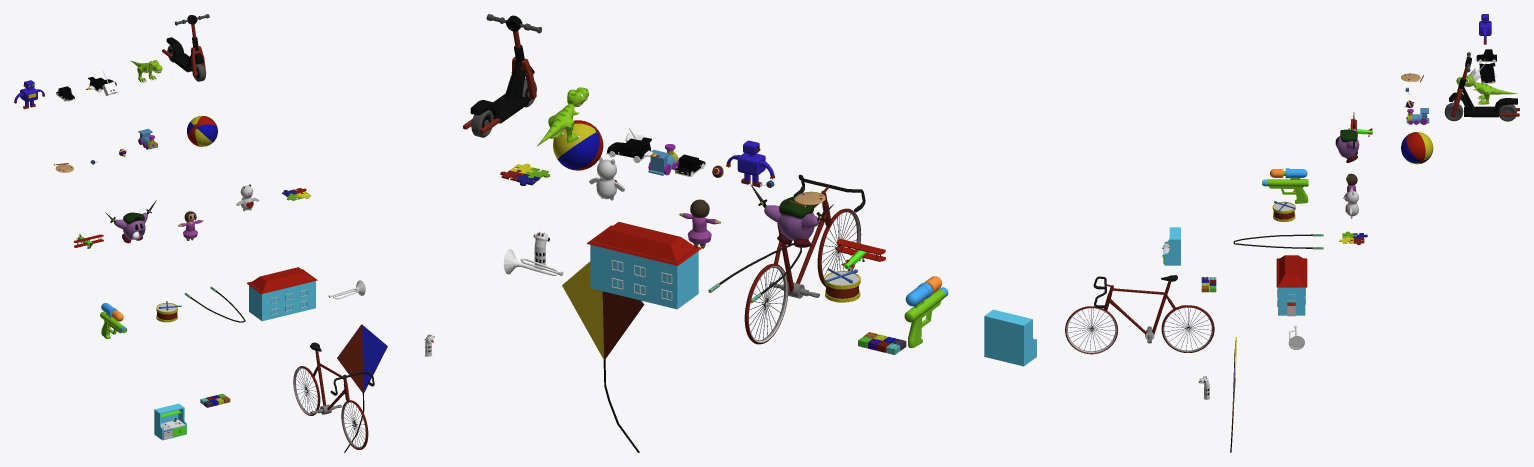
The model's file is Toys.fbx.
3 views of the same model, side by side, from view 1: azimuth 30°, elevation 25°; view 2: azimuth 150°, elevation 25°; view 3: azimuth 270°, elevation 25° (orthographic). The views are drawn at different scales.
Visible parts, largest first — view 1: Casita de Juguetes013, Bicicleta004, Cometa063, Scooter020, Mini Cocina017, Balon 028, Kirby025, Sphere070, Robot029; view 2: Casita de Juguetes013, Bicicleta004, Cometa063, Scooter020, Mini Cocina017, Kirby025, Balon 028, Sphere070, Trex041, Robot029, Baqueta026, Muñeca045 (+7 smaller); view 3: Bicicleta004, Casita de Juguetes013, Scooter020, Sphere070, Balon 028, Kirby025, Mini Cocina017, Trex041.
Part boxes in pixels (bbox=[...]): Casita de Juguetes013: bbox=[247, 267, 317, 321]; Bicicleta004: bbox=[293, 342, 374, 449]; Cometa063: bbox=[337, 324, 387, 452]; Scooter020: bbox=[162, 14, 209, 81]; Mini Cocina017: bbox=[154, 403, 186, 440]; Balon 028: bbox=[187, 115, 217, 146]; Kirby025: bbox=[105, 200, 156, 243]; Sphere070: bbox=[100, 303, 127, 338]; Robot029: bbox=[14, 80, 44, 109]; Casita de Juguetes013: bbox=[586, 221, 701, 309]; Bicicleta004: bbox=[744, 174, 865, 344]; Cometa063: bbox=[562, 261, 644, 452]; Scooter020: bbox=[463, 14, 541, 137]; Mini Cocina017: bbox=[984, 309, 1036, 366]; Kirby025: bbox=[750, 183, 833, 247]; Balon 028: bbox=[553, 120, 603, 170]; Sphere070: bbox=[904, 276, 948, 347]; Trex041: bbox=[537, 87, 588, 146]; Robot029: bbox=[726, 140, 774, 187]; Baqueta026: bbox=[824, 268, 860, 302]; Muñeca045: bbox=[679, 199, 720, 248]; Bicicleta004: bbox=[1065, 275, 1214, 354]; Casita de Juguetes013: bbox=[1276, 255, 1307, 316]; Scooter020: bbox=[1444, 52, 1519, 121]; Sphere070: bbox=[1262, 168, 1308, 203]; Balon 028: bbox=[1401, 132, 1433, 164]; Kirby025: bbox=[1335, 112, 1359, 162]; Mini Cocina017: bbox=[1162, 227, 1180, 265]; Trex041: bbox=[1456, 75, 1517, 104].
Bounding box in the file's own units: 541 × 643 × 705.
